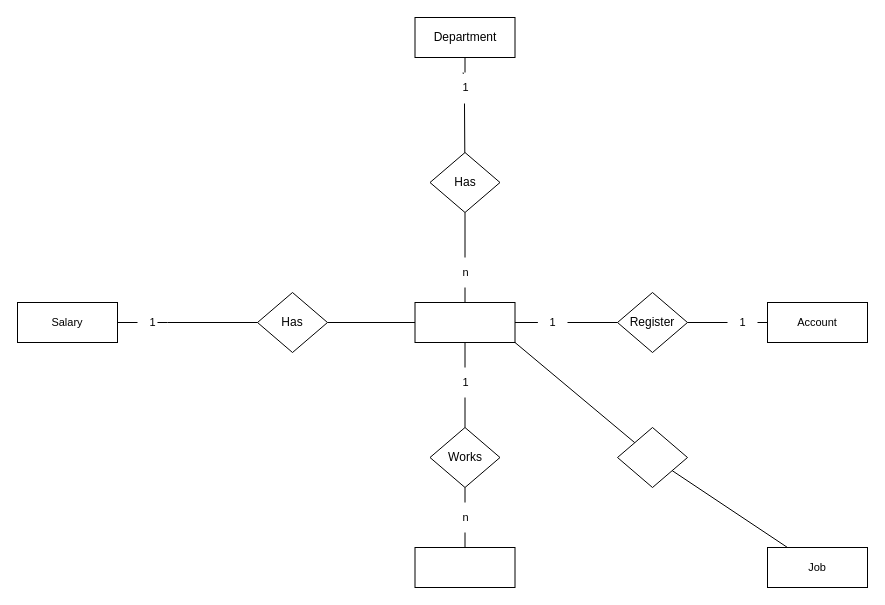
Image size: 885x605. Some labels were removed from this diagram. The box of each missing label's shape, as (x1, y1, x2, y2) in pixels:
Employee: (414, 302, 515, 342)
In: (616, 426, 688, 488)
Schedule: (414, 546, 515, 588)
